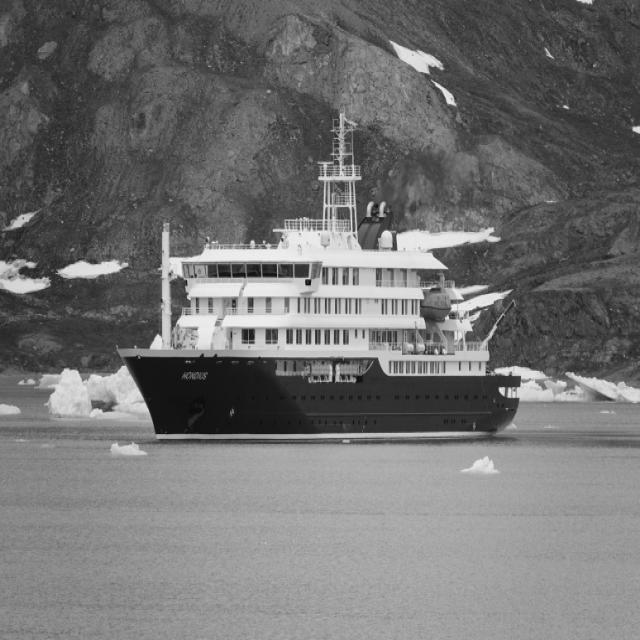cruises: (110, 110, 529, 448)
